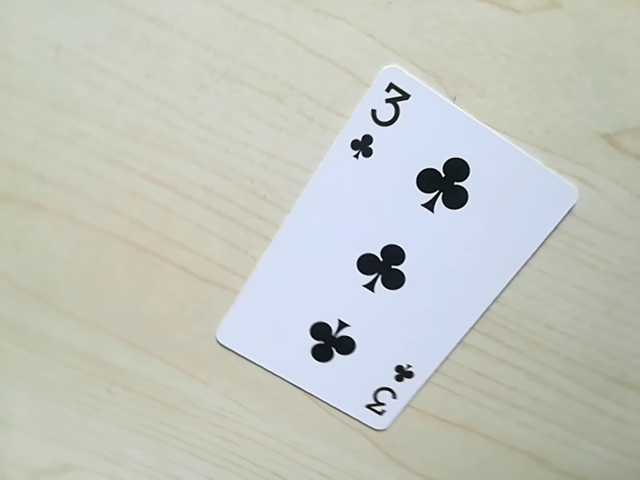mh 3: (345, 73, 413, 168), (361, 358, 416, 423)
